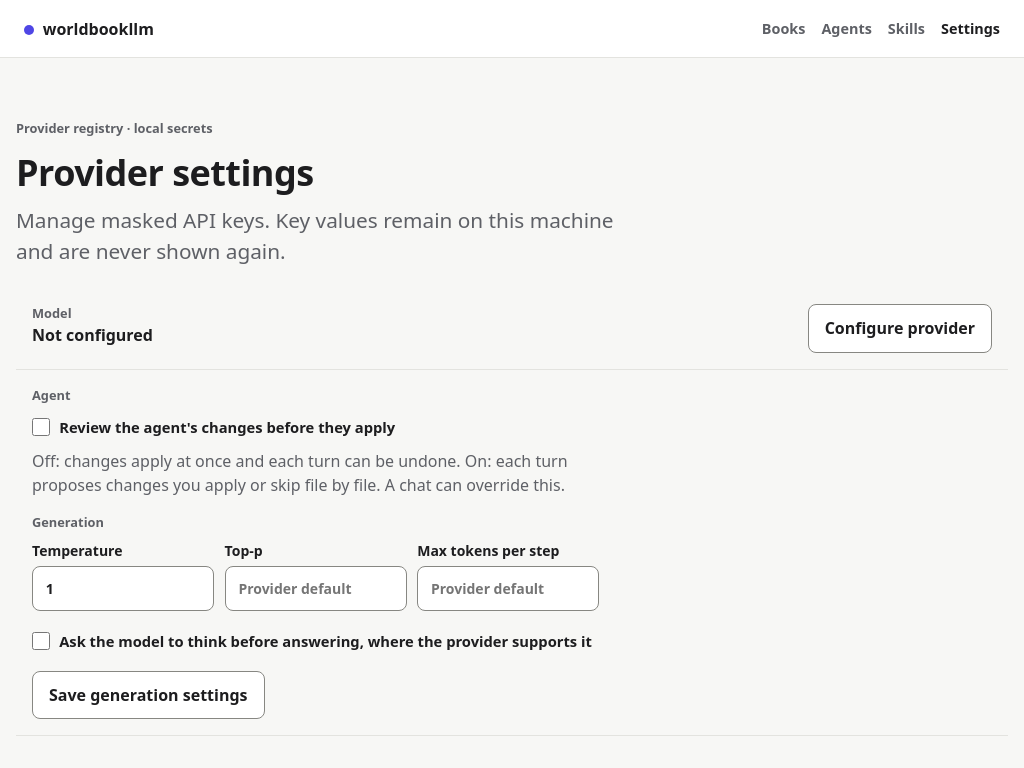
Scenario: Provider settings › configures, updates, and clears the global provider
Expected: the text "Not configured" is shown, [32,324,153,346]
Click the button "Configure provider": x=900, y=328 [808,304,992,353]
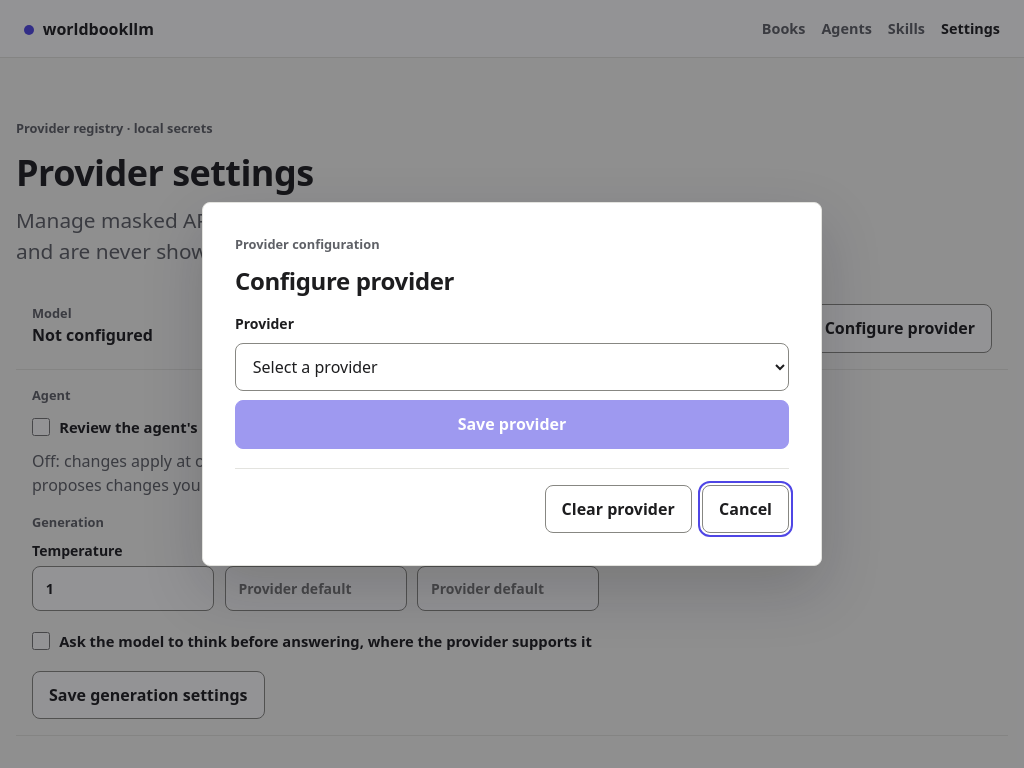
Select "NanoGPT" in the dropdown labelled "Provider": x=512, y=367 [235,343,789,391]
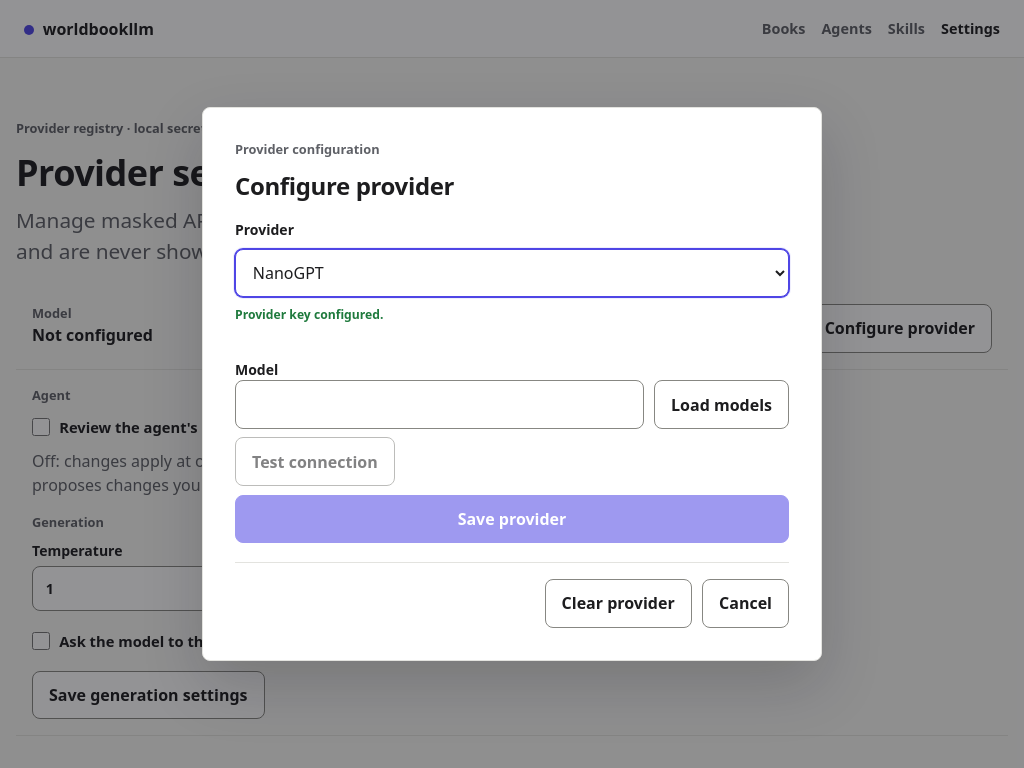
In the field labelled "Model": x=439, y=404 [235,380,644,429], type "nano-story"
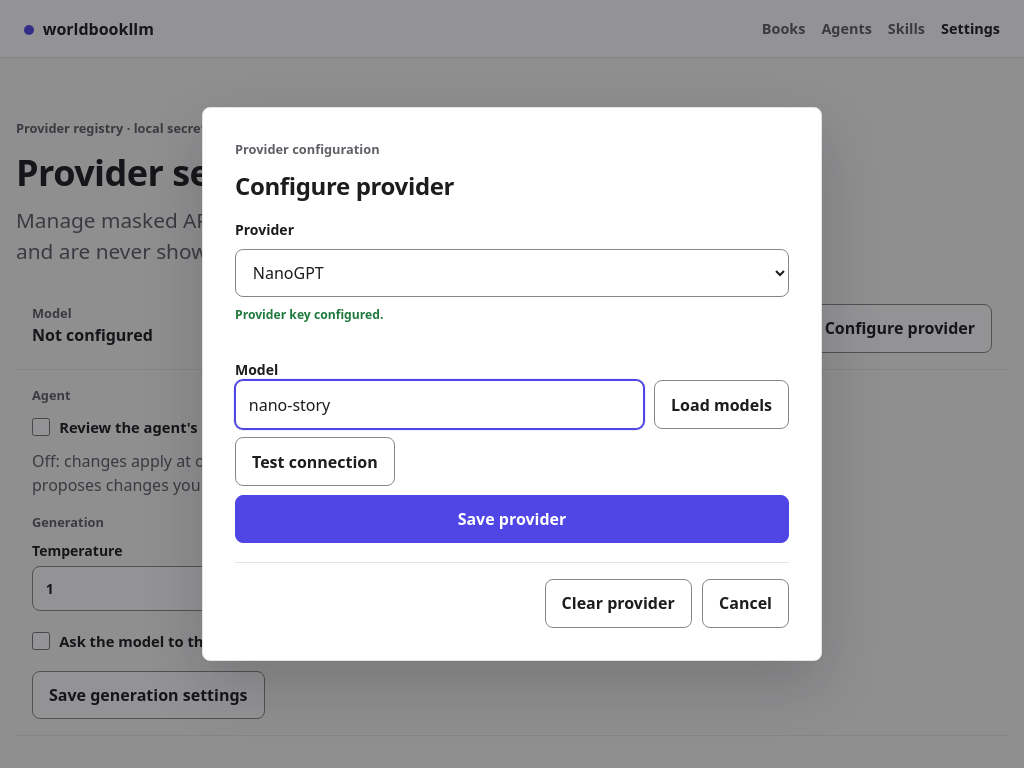
Click the button "Save provider": x=512, y=519 [235,495,789,543]
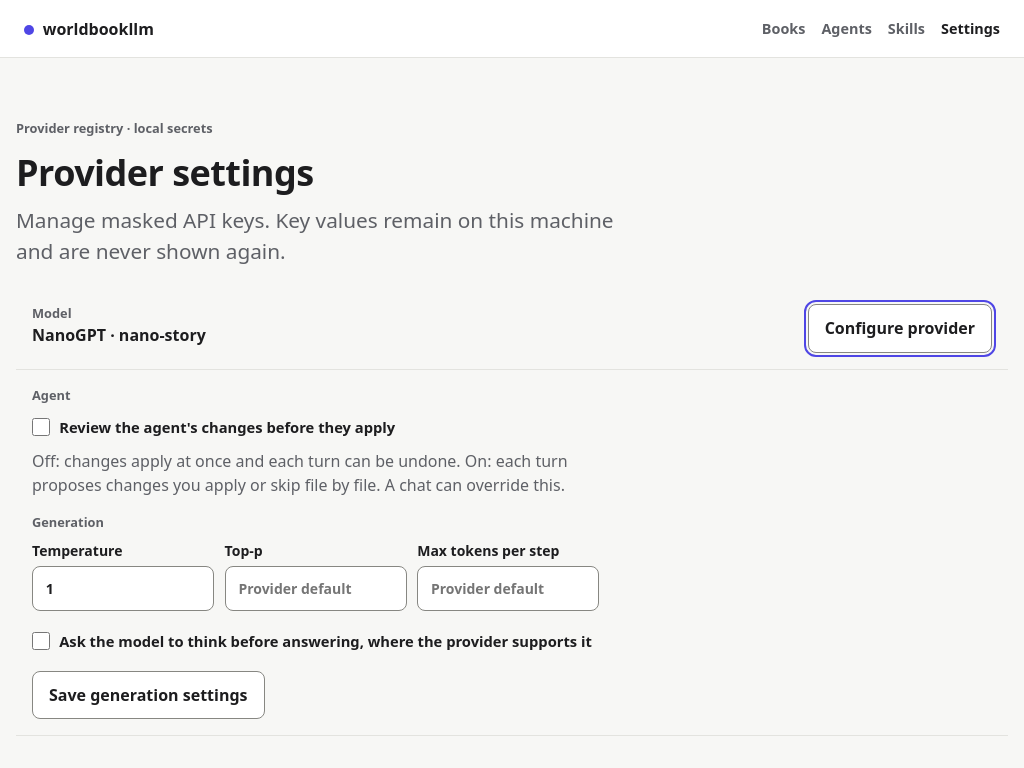
Expected: the text "NanoGPT · nano-story" is shown, [32,324,206,346]
Click the button "Configure provider": x=900, y=328 [808,304,992,353]
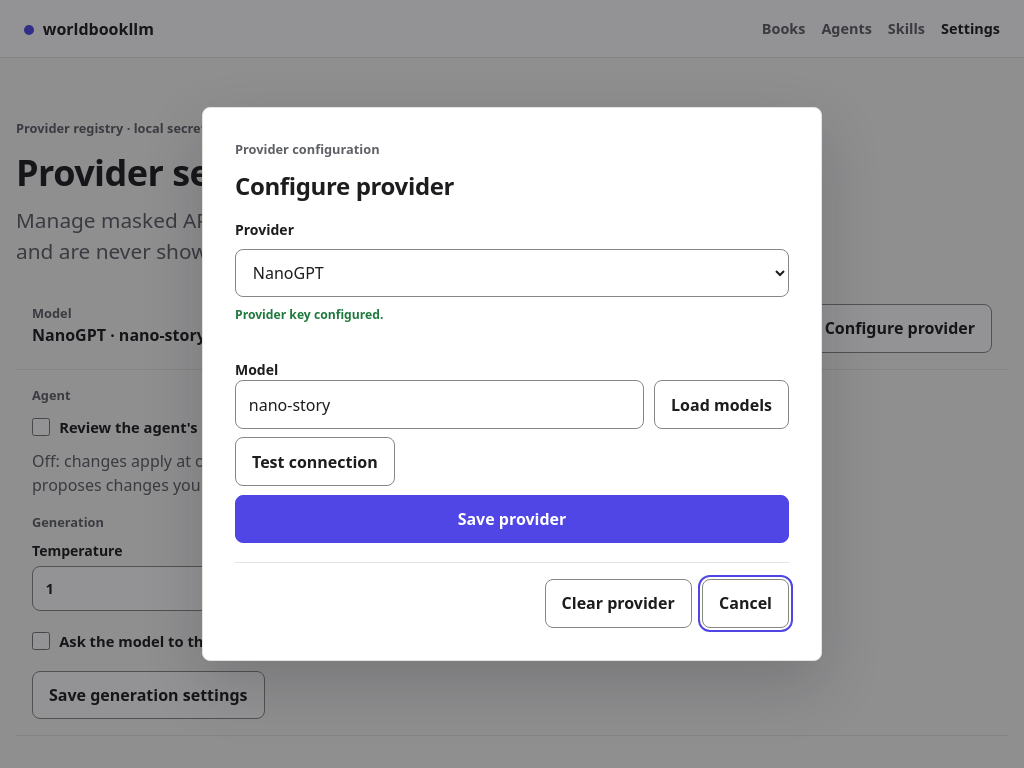
Click the button "Clear provider": x=618, y=603 [545,579,692,628]
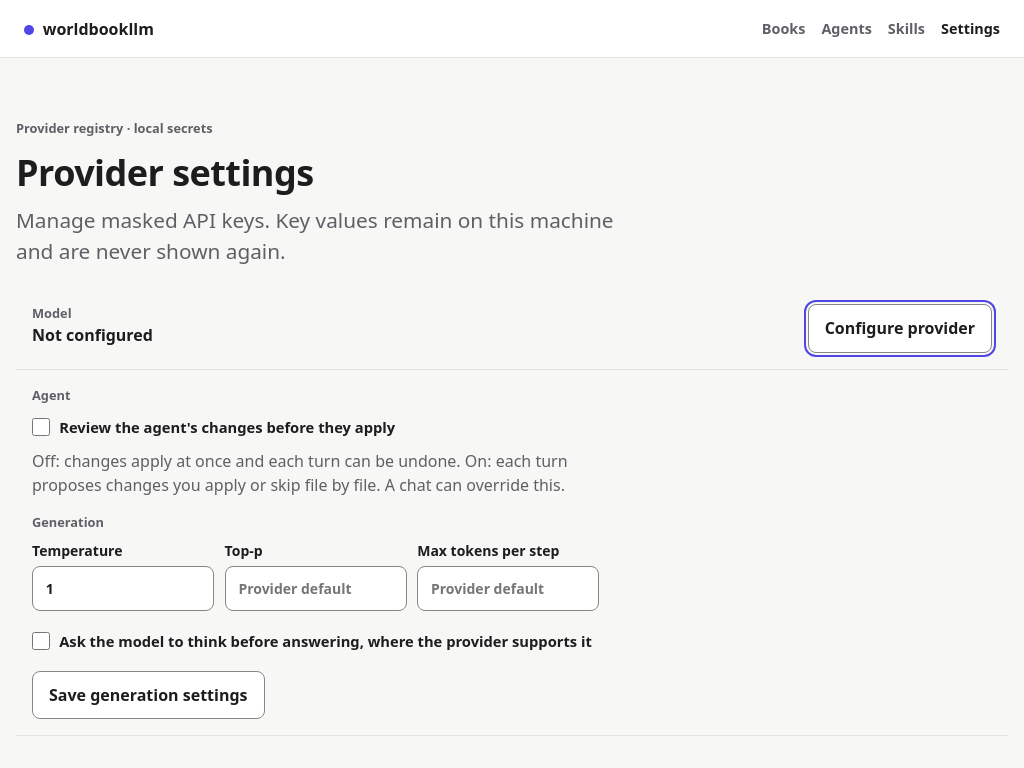
Expected: the text "Not configured" is shown, [32,324,153,346]
